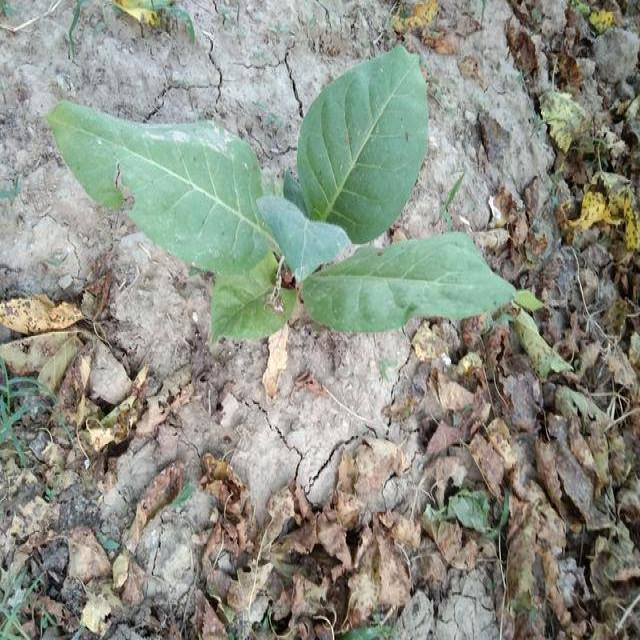crop: (45, 55, 532, 340)
